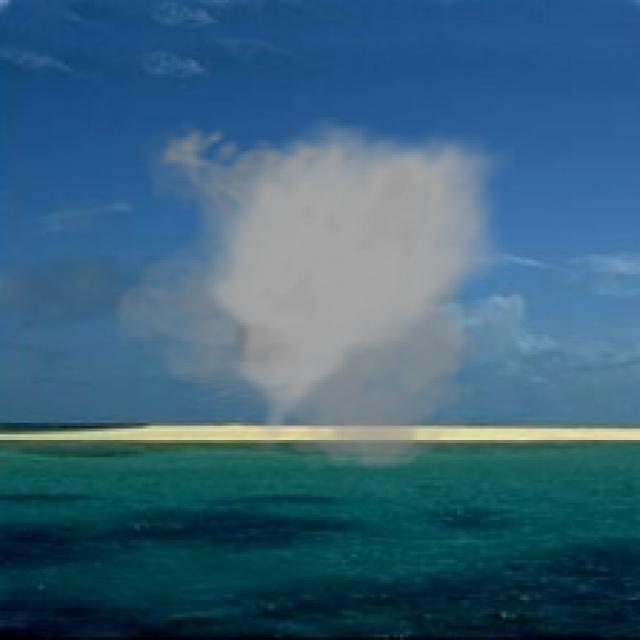Smoke: (114, 117, 514, 474)
